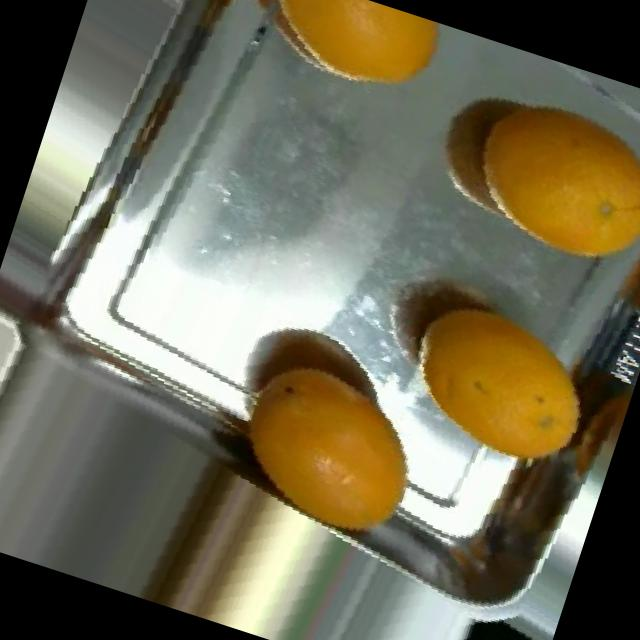Fruit: (369, 258, 639, 502), (431, 51, 640, 304), (248, 0, 459, 118), (421, 590, 557, 640), (91, 0, 225, 27)
